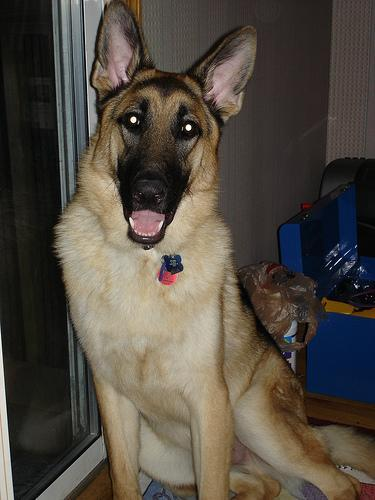German_shepherd: (52, 1, 372, 498)
